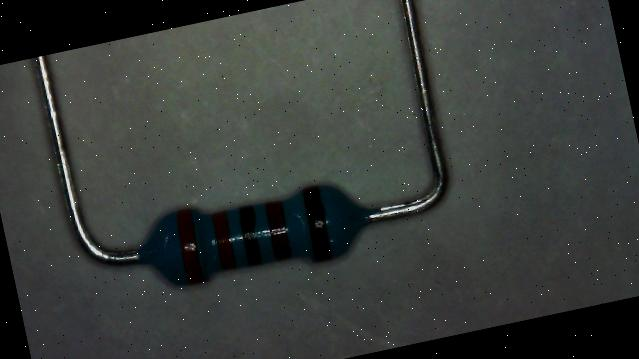black: (235, 204, 264, 265)
brown: (298, 184, 334, 262)
orange: (172, 208, 205, 284), (210, 210, 238, 269)
red: (263, 200, 292, 260)
resistor: (121, 162, 378, 304)
